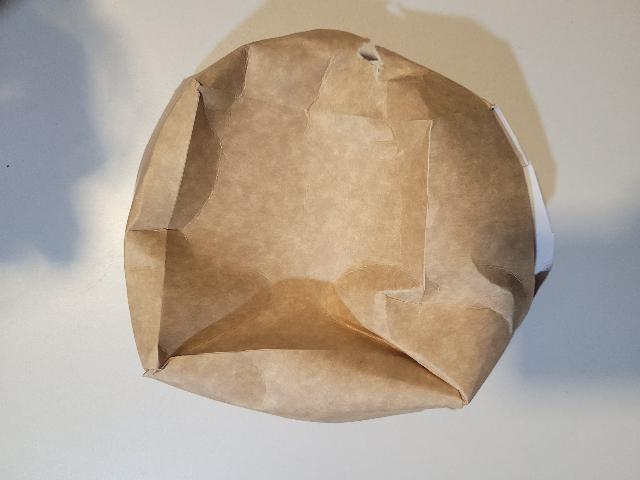Kagit: (124, 23, 551, 425)
